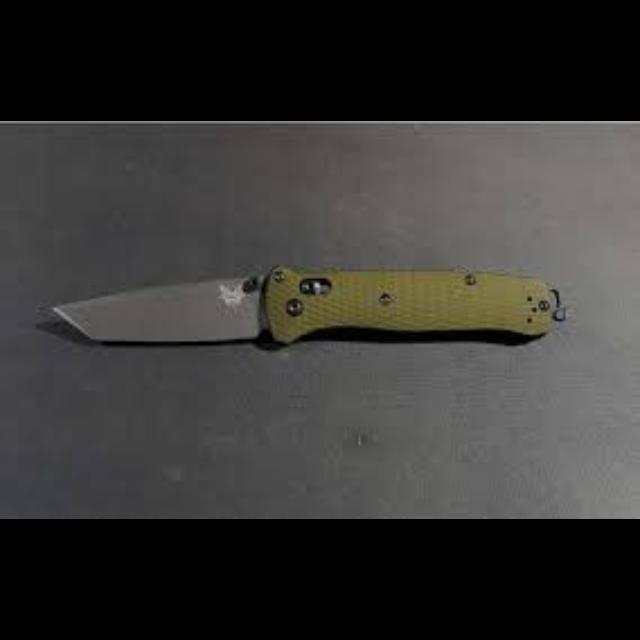Knife: (45, 264, 565, 346)
